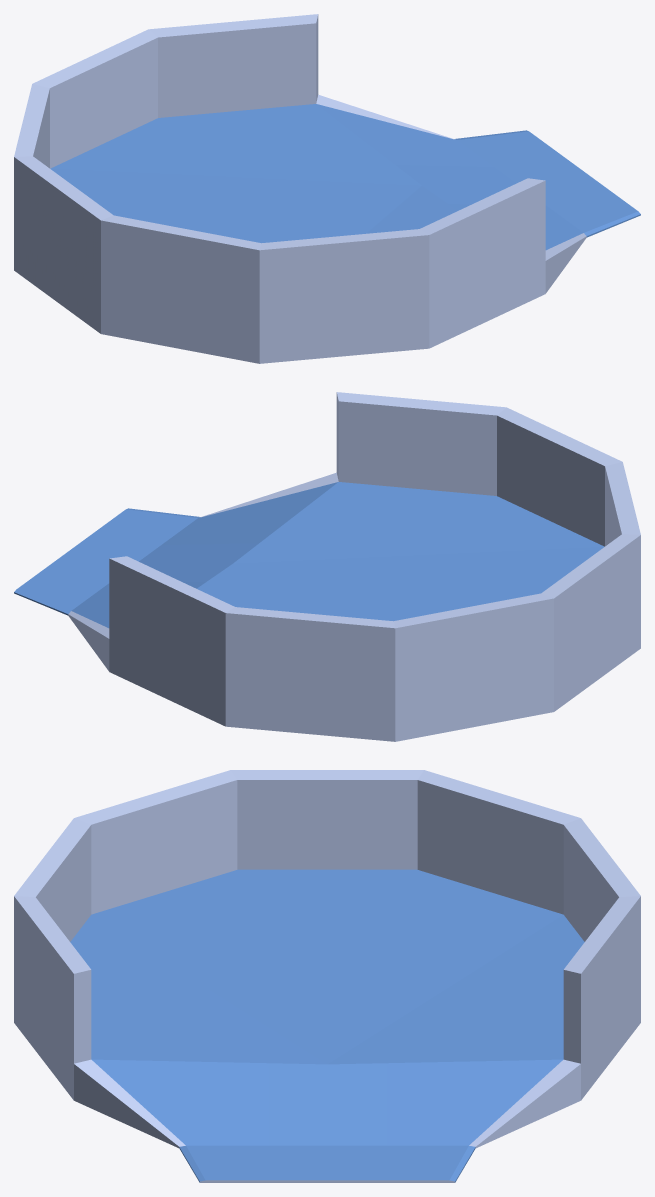
Rendered from Finish Plane.001 2.fbx.
3 views of the same model, one above another, from view 1: azimuth 30°, elevation 25°; view 2: azimuth 150°, elevation 25°; view 3: azimuth 270°, elevation 25° (orthographic). The views are drawn at different scales.
Visible parts, largest first — view 1: Finish Plane.001; view 2: Finish Plane.001; view 3: Finish Plane.001.
Part boxes in pixels (x1,y1,x2,y2): Finish Plane.001: [14, 14, 640, 363]; Finish Plane.001: [14, 392, 640, 741]; Finish Plane.001: [14, 770, 640, 1182].
Bounding box in the file's own units: 1654 × 341 × 1529.
